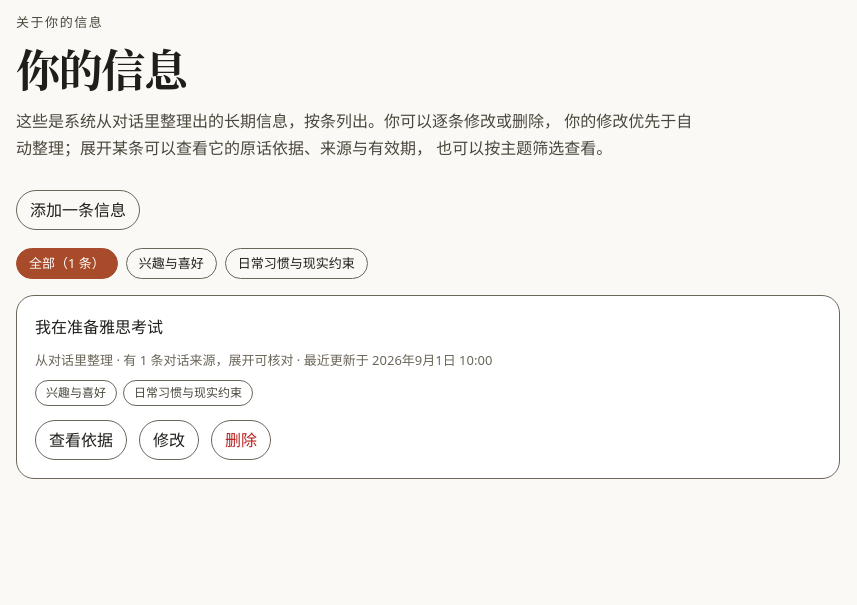
Test: AtomicProfileCenter › renders topics as plain chips and edits them without changing identity
The width and height of the screenshot is (857, 605).
Expected: the list with test id "atomic-topics" shows "兴趣与喜好", 46,384 -> 106,401
Expected: the list with test id "atomic-topics" shows "日常习惯与现实约束", 134,384 -> 242,401
Click the button "修改": (169, 440) 139,420 -> 199,460
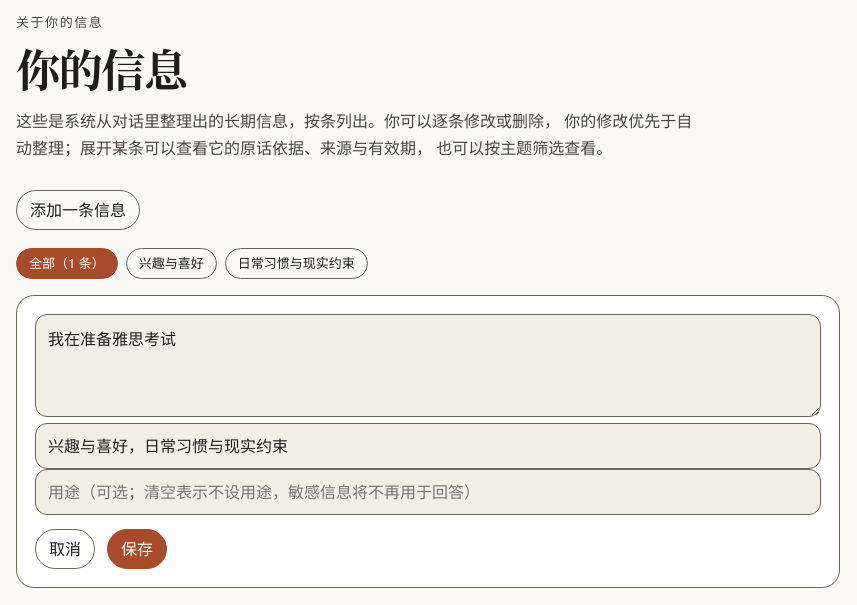
Now the field named "长期信息主题" holds "兴趣与喜好，日常习惯与现实约束"
Replace the text in the field named "长期信息主题" with "目标与计划": (428, 446) 35,423 -> 821,469
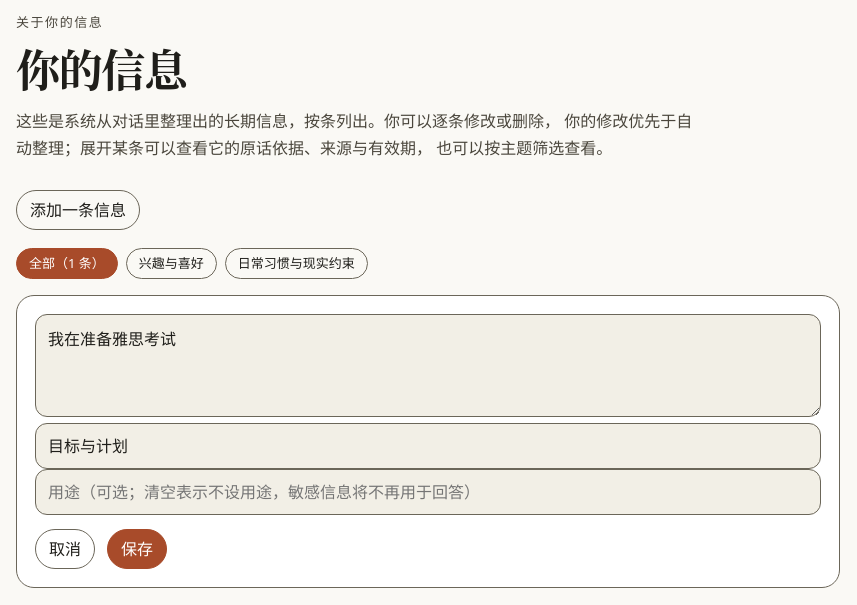
Click the button "保存": (137, 549) 107,529 -> 167,569
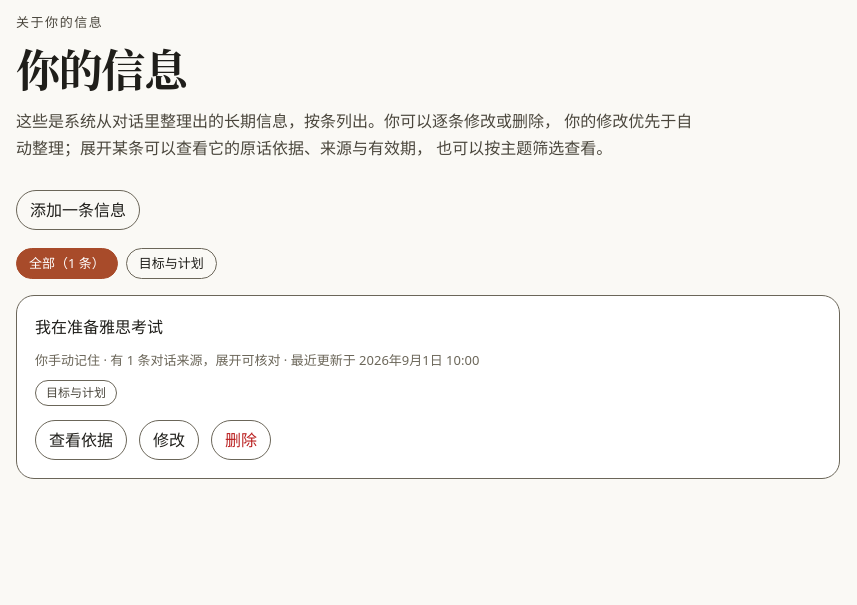
Now the list with test id "atomic-topics" reads "目标与计划", box 46,384 -> 106,401
